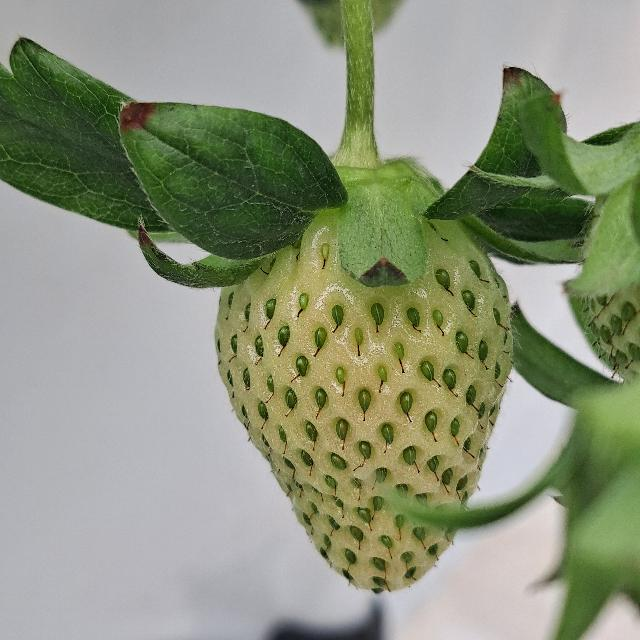Health_25: (213, 208, 512, 590)
